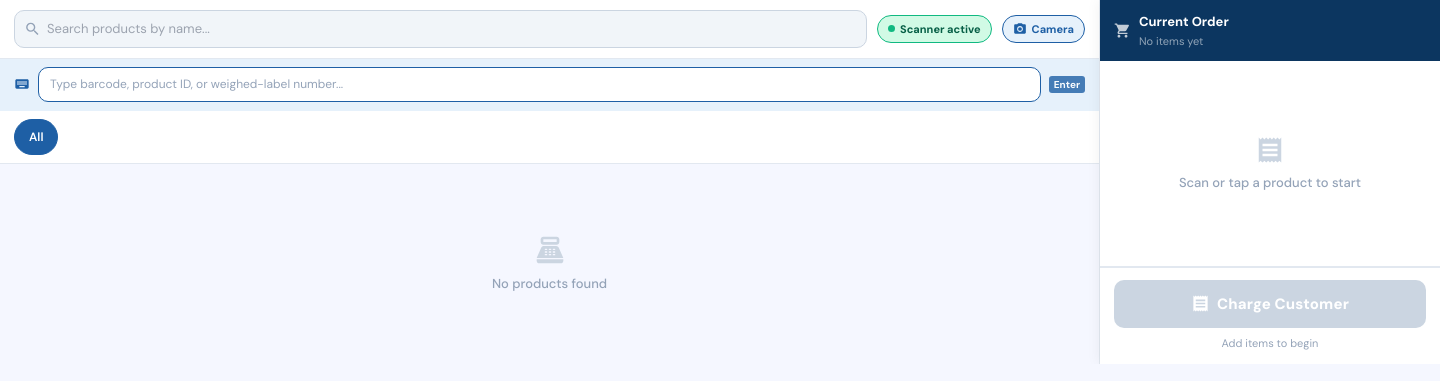
Test case: manual code entry › shows "Weighed item label" dropdown for a 13-digit weight barcode
Type "2000121001234" into the field with placeholder "Type barcode, product ID, or weighed-label number..." at (539, 84), box [38,66,1041,102]
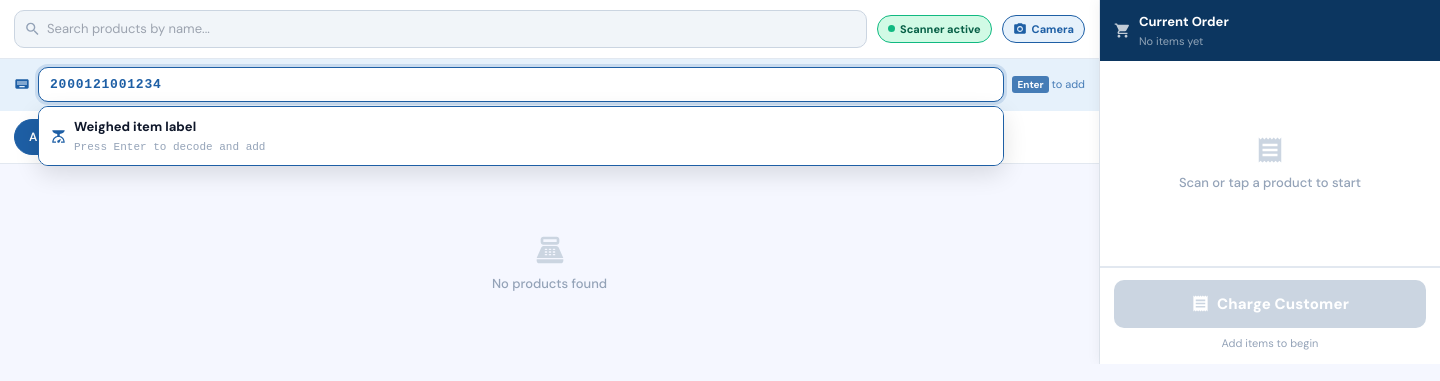
Result: the text "Weighed item label" is shown at [74,118,196,135]
